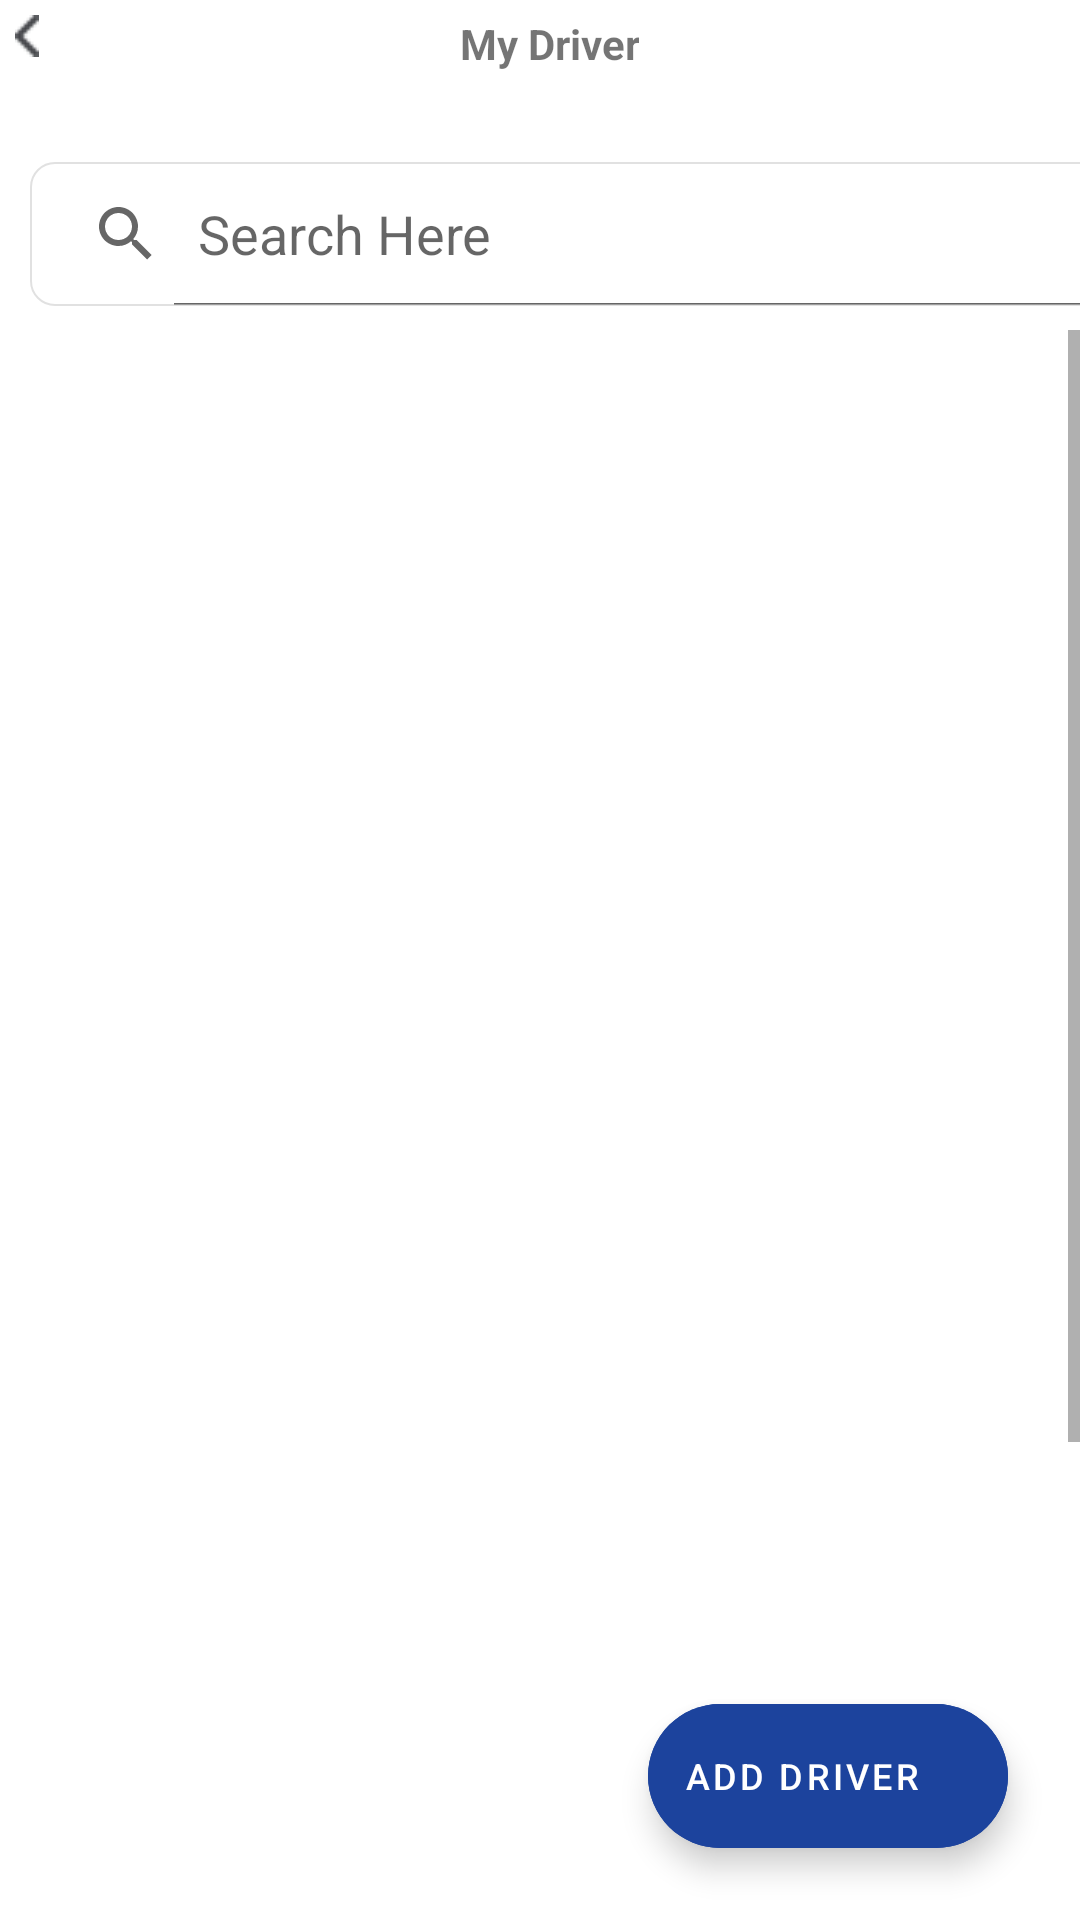

Locate icon controls on the screen. Image size 1080w x 1920h, boxes as {"left": x1, "top": y1, "right": x2, "bottom": y2}.
backbuttonimg: {"left": 15, "top": 15, "right": 39, "bottom": 57}
